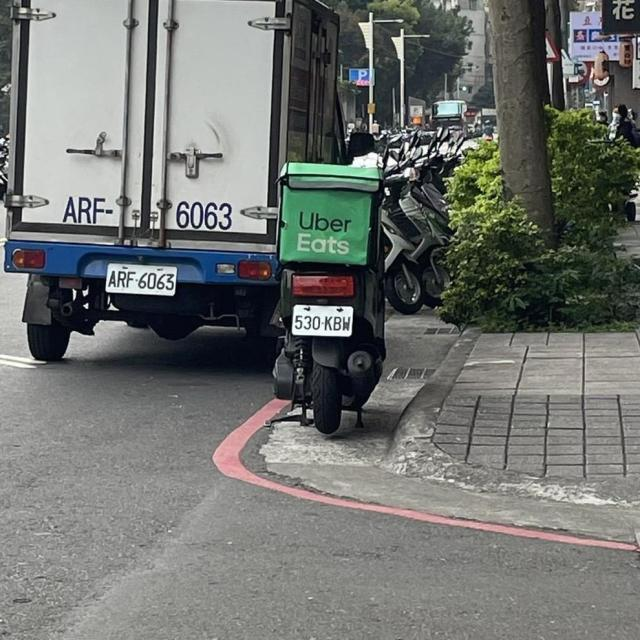W: (99, 253, 184, 300), (284, 302, 362, 338)
